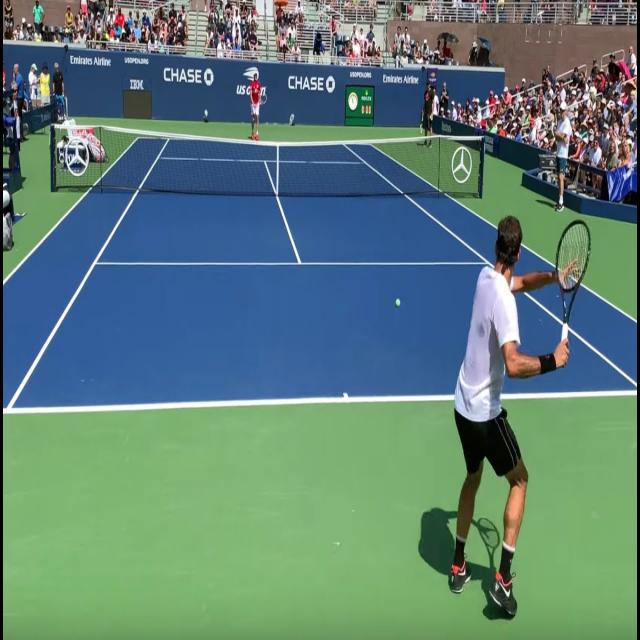court: (0, 176, 640, 432)
net: (52, 117, 489, 195)
player: (443, 190, 586, 619)
